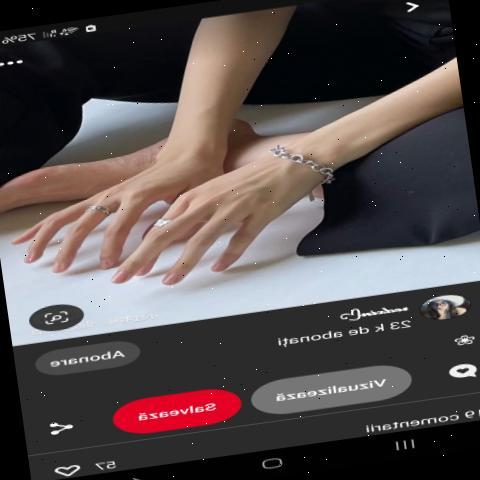Hands: (100, 140, 334, 313), (1, 131, 229, 274)
